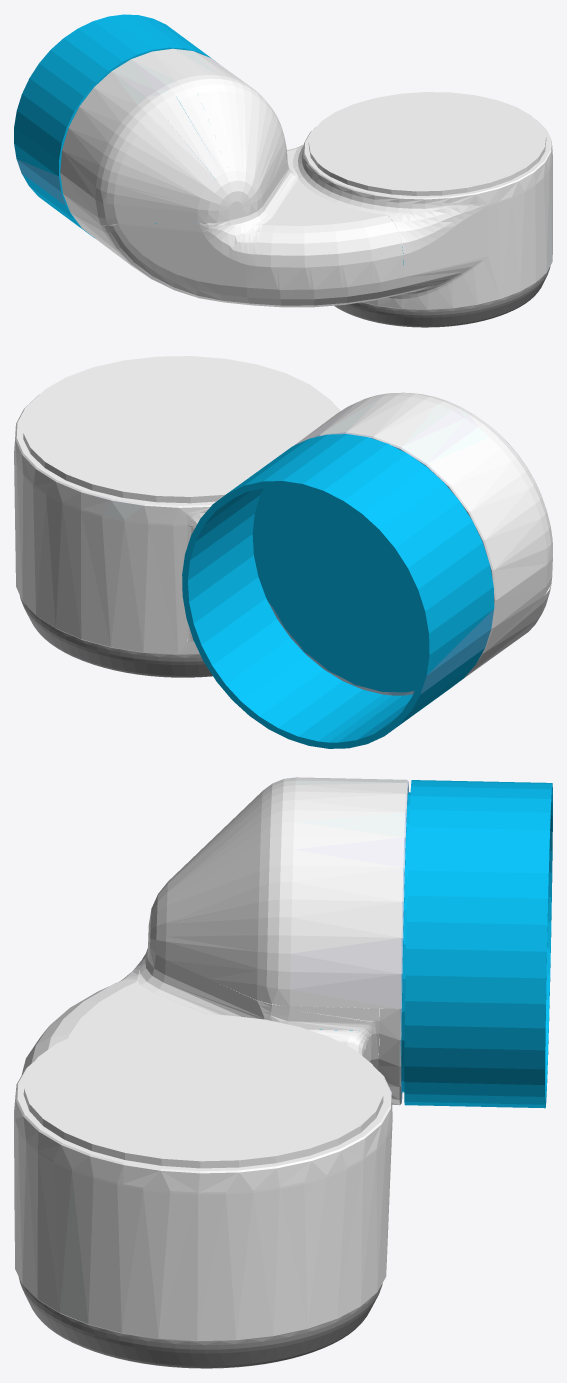
Rendered from FetchLink1.dae.
3 views of the same model, one above another, from view 1: azimuth 30°, elevation 25°; view 2: azimuth 150°, elevation 25°; view 3: azimuth 270°, elevation 25° (orthographic). The views are drawn at different scales.
Visible parts, largest first — view 1: FetchLink1; view 2: FetchLink1; view 3: FetchLink1.
Boxes of the visible parts, x1,y1,x2,y2 form: FetchLink1: [14, 14, 552, 327]; FetchLink1: [14, 356, 552, 748]; FetchLink1: [14, 777, 552, 1368].
Size of the model in its own units: 0.2291 by 0.1721 by 0.1253.
